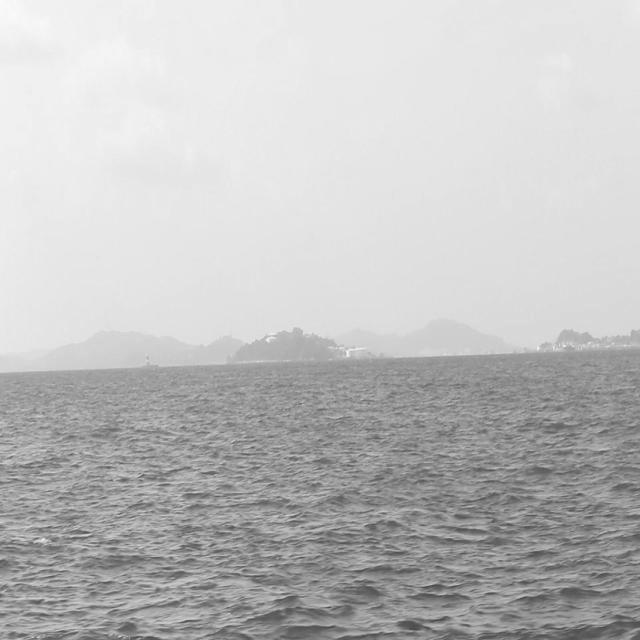buoy: (140, 349, 154, 374)
